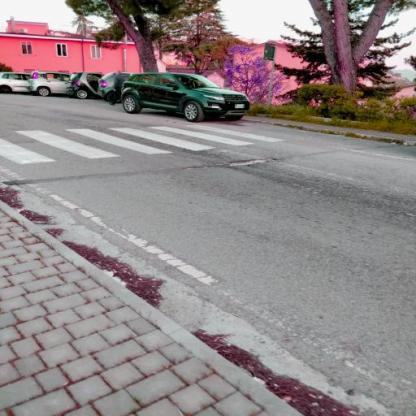crosswalk: (12, 123, 180, 165)
